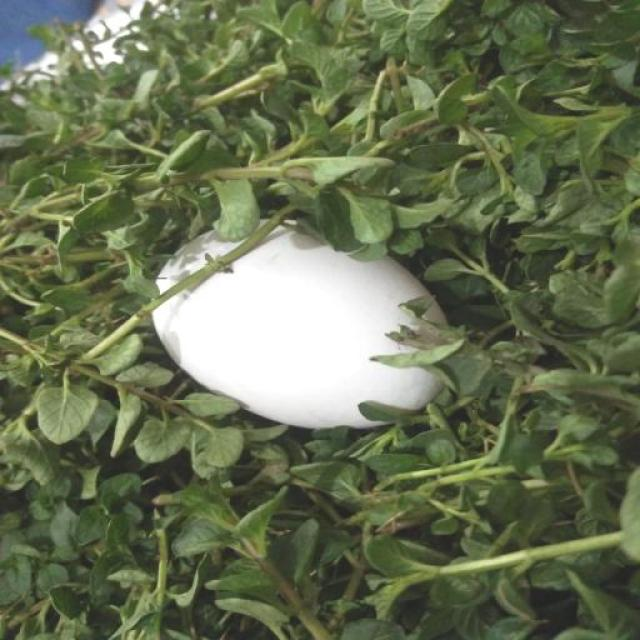telur: (150, 221, 450, 428), (150, 280, 192, 366), (407, 282, 451, 344)
